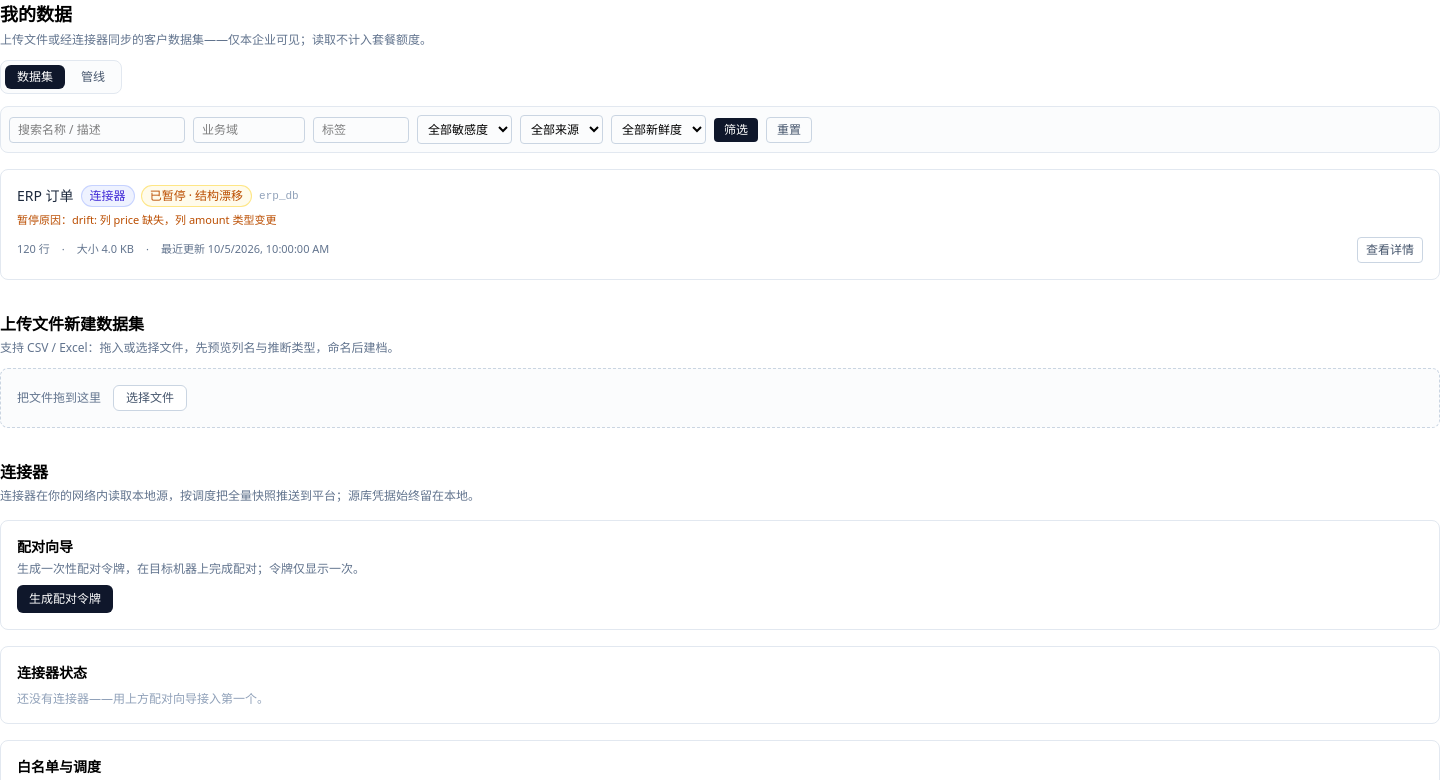
Test: DatasetDetail（预览网格/修正/同步/悬空，任务 3.4） › 漂移暂停：resume 确认弹窗展示被拒列，确认后提交 accept_columns 并恢复
Click the button with test id "dataset-open": click(1390, 250) 1357,236 -> 1423,262
(page scrolled)
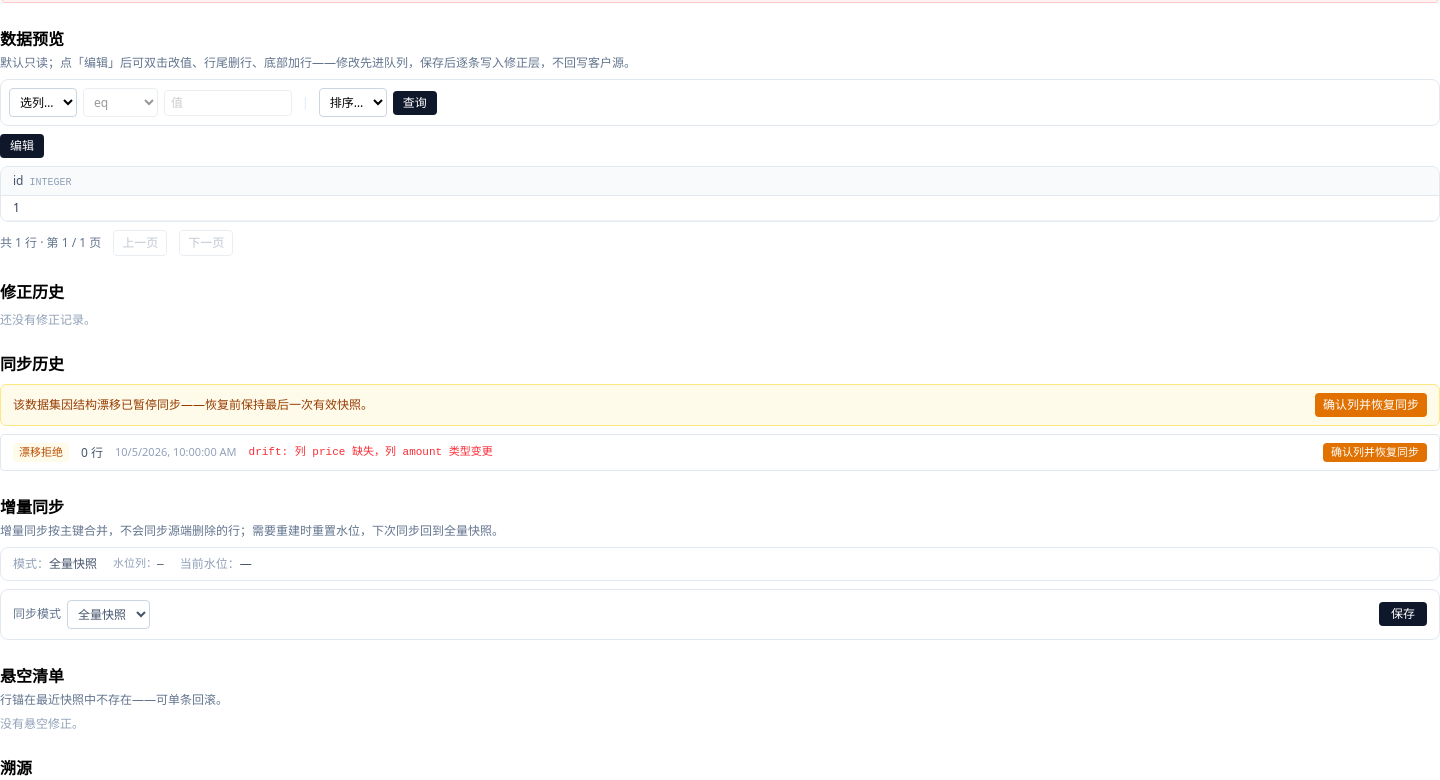
Now the element with test id "drift-banner" is shown, box 0,384 -> 1439,426
Click the button with test id "drift-resume": click(1371, 405) 1315,393 -> 1427,417
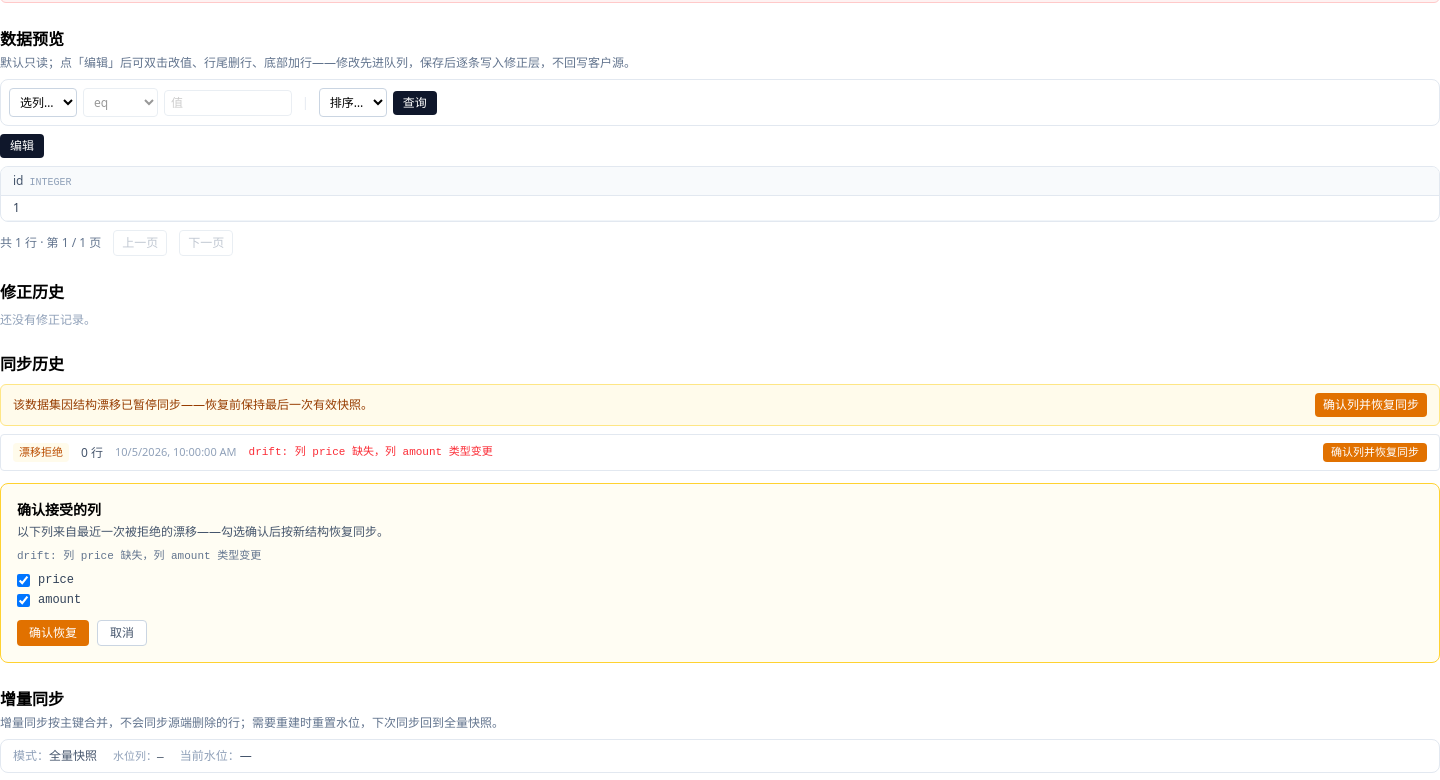
Now the dialog with test id "resume-dialog" is shown, box 0,483 -> 1439,664
Now the text with test id "resume-reason" reads "drift: 列 price 缺失，列 amount 类型变更", box 17,550 -> 261,562
Click the button with test id "resume-confirm": click(53, 634) 17,620 -> 89,646
(page scrolled)
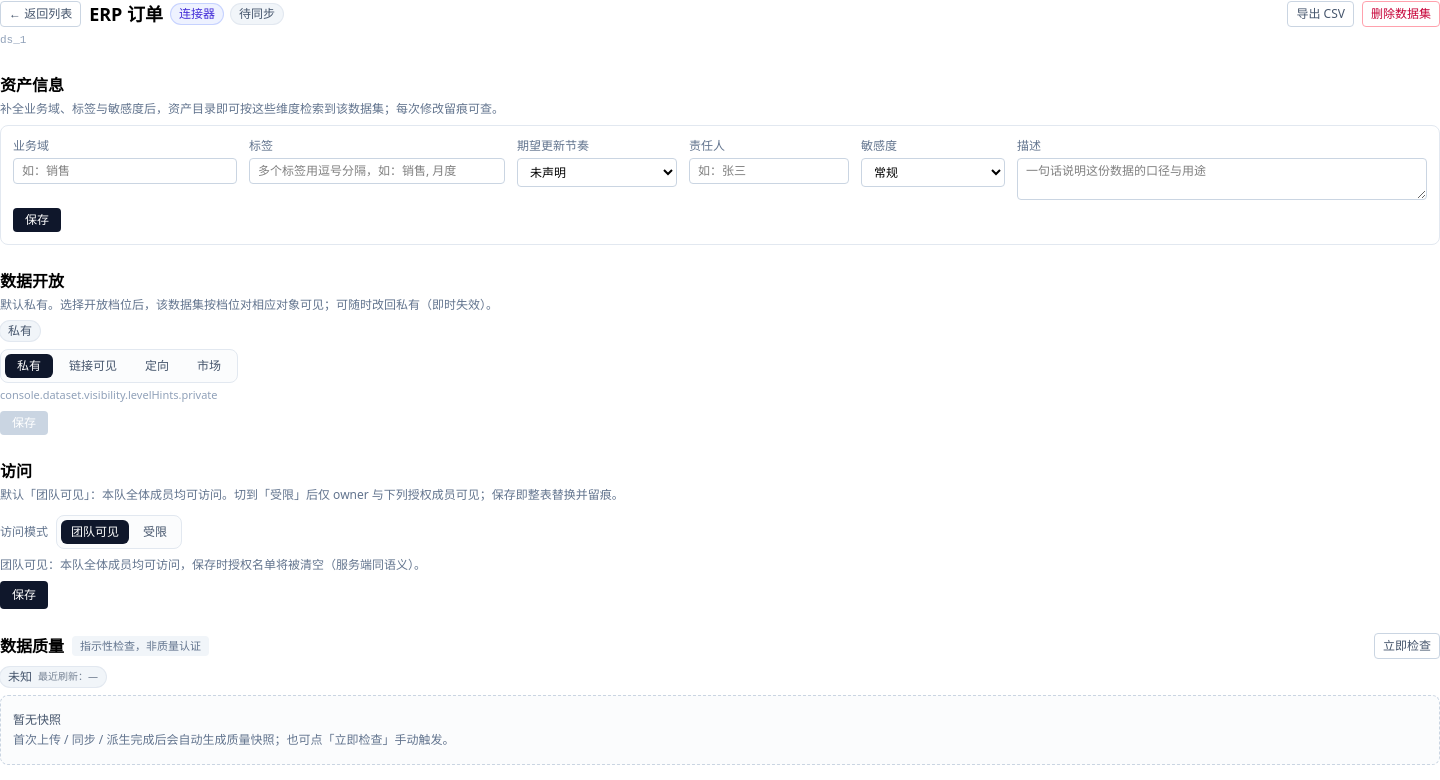
Now the element with test id "drift-banner" is gone
